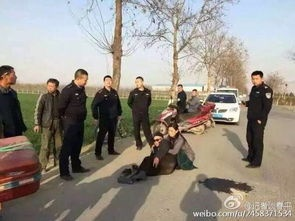fall: (118, 124, 177, 186)
